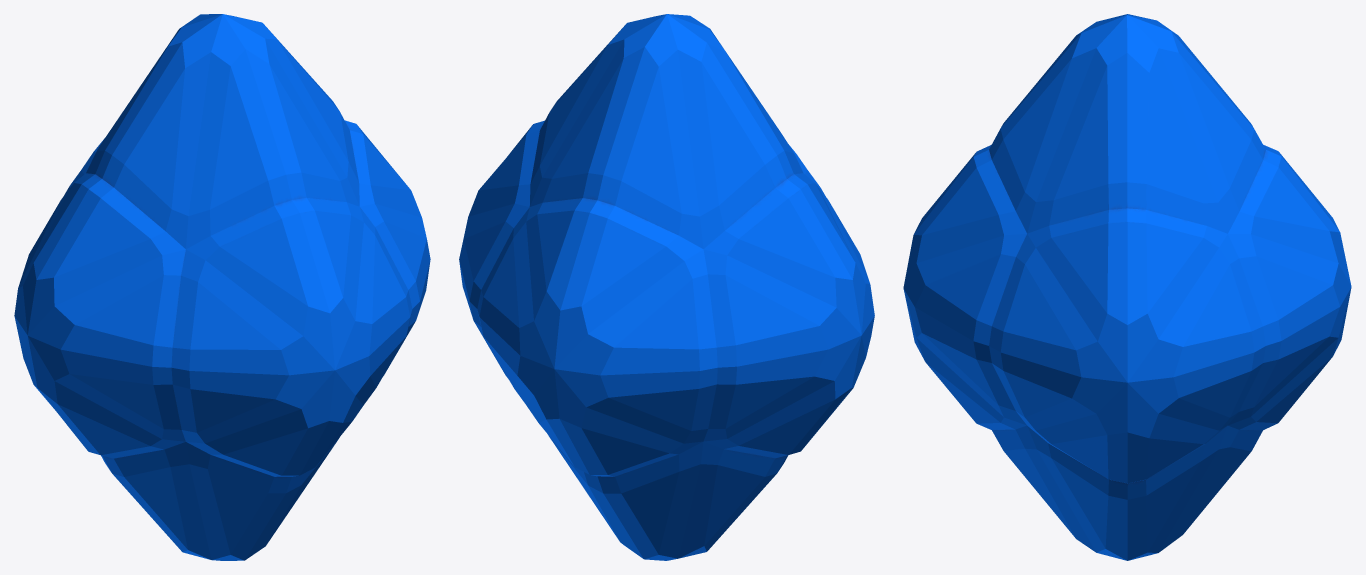
Rendered from star_crystal.fbx.
3 renders of one model, left to right at view 1: azimuth 30°, elevation 25°; view 2: azimuth 150°, elevation 25°; view 3: azimuth 270°, elevation 25°, orthographic.
Visible parts, largest first — view 1: pCube22; view 2: pCube22; view 3: pCube22.
Boxes of the visible parts, x1,y1,x2,y2 form: pCube22: (14, 14, 430, 560); pCube22: (459, 14, 874, 560); pCube22: (903, 14, 1351, 560).
Bounding box in the file's own units: 5711 × 7663 × 5710.
1 material, 1 textured.
